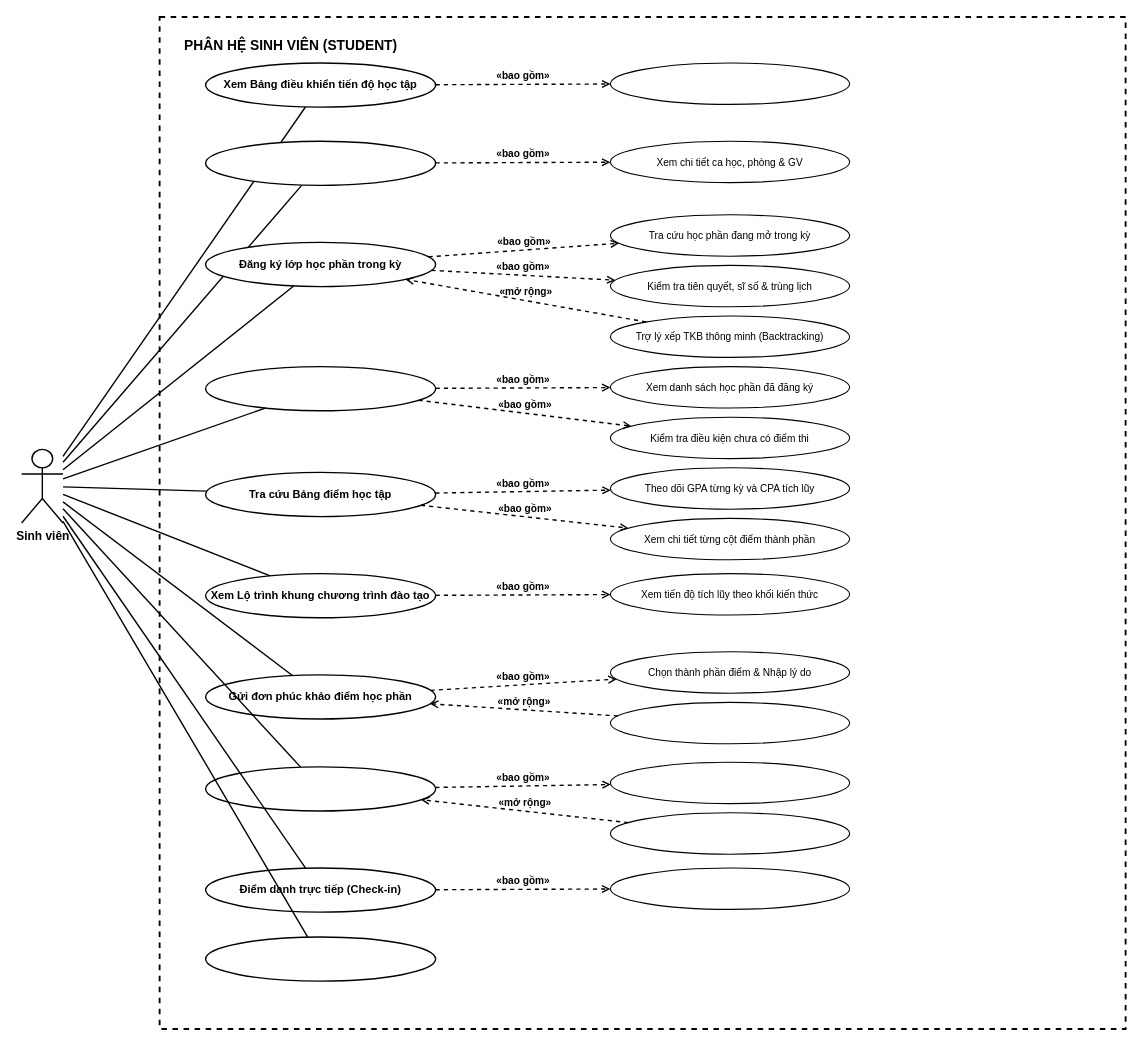
Some shapes in this 1143 by 1045 pixel diagram are drawn without their labels. Here are the shapes that lost their labels. From the top down, the centre of each, then its label:
At point (729, 83): "Theo dõi GPA/CPA và tín chỉ tích lũy".
At point (320, 163): "Tra cứu Thời khóa biểu dạng tuần".
At point (320, 388): "Hủy đăng ký học phần".
At point (729, 722): "Theo dõi trạng thái xét duyệt phúc khảo".
At point (320, 788): "Tra cứu & Thanh toán học phí".
At point (729, 782): "Xem bảng kê học phí theo tín chỉ".
At point (729, 833): "Nộp học phí trực tuyến & Nhận biên lai".
At point (729, 888): "Nhập mã PIN xác nhận có mặt".
At point (320, 958): "Xem hồ sơ & Đổi mật khẩu cá nhân".
